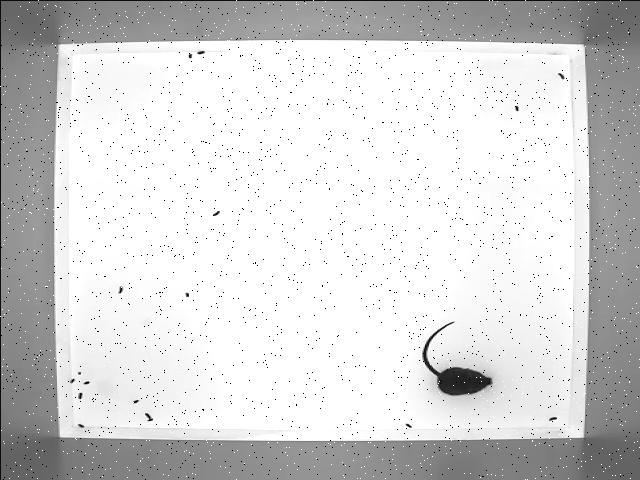Tikus: (419, 319, 493, 398)
